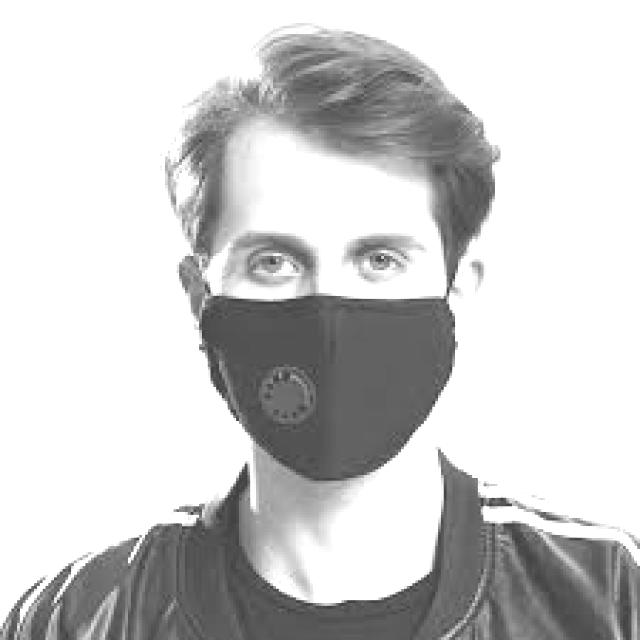fake: (162, 278, 519, 482)
real: (200, 128, 456, 488)
